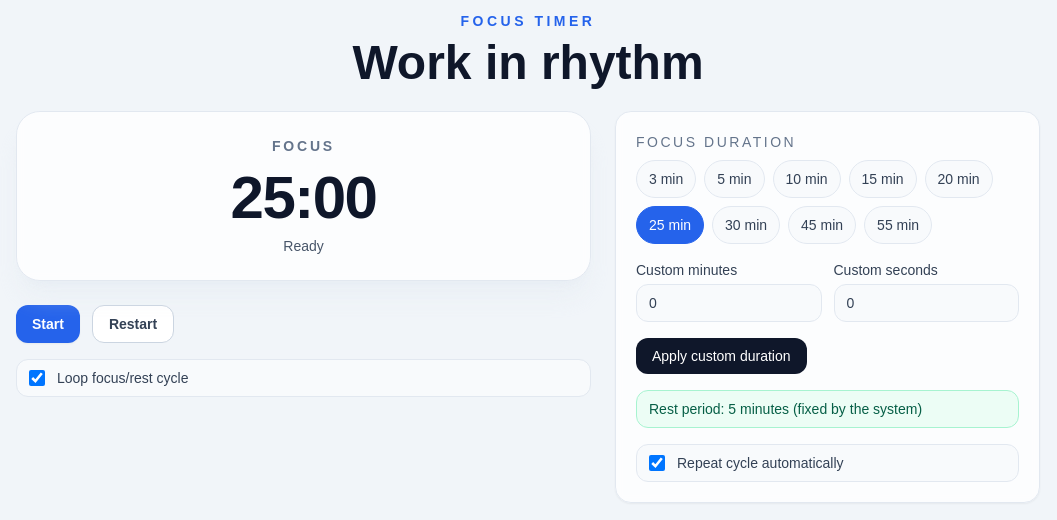
Test: timer flow › applies a custom focus duration immediately and uses it for the next run
This screenshot has width=1057, height=520.
Replace the text in the number field labelled "Custom minutes" with "10": coordinates (729, 303) [636,284,822,322]
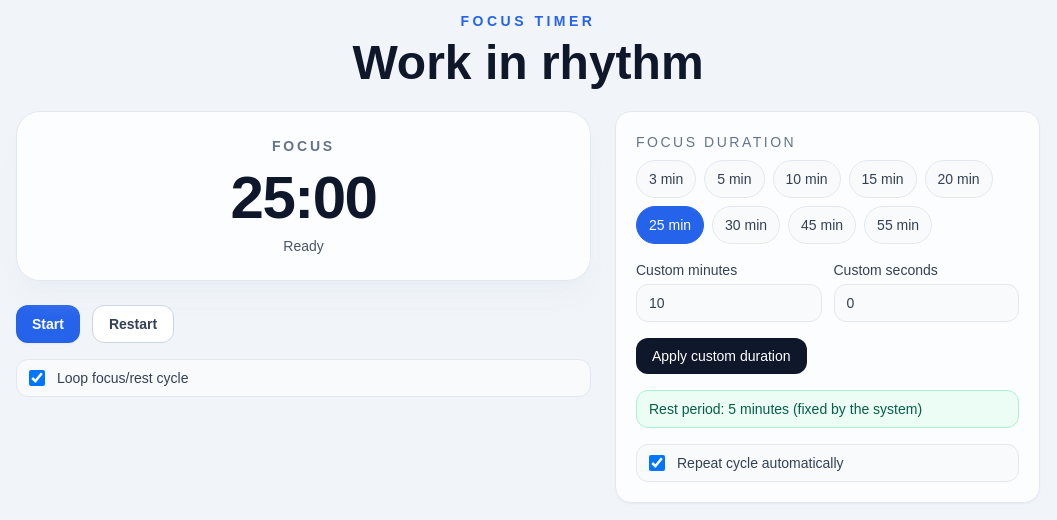
Replace the text in the number field labelled "Custom seconds" with "30": coordinates (926, 303) [834,284,1019,322]
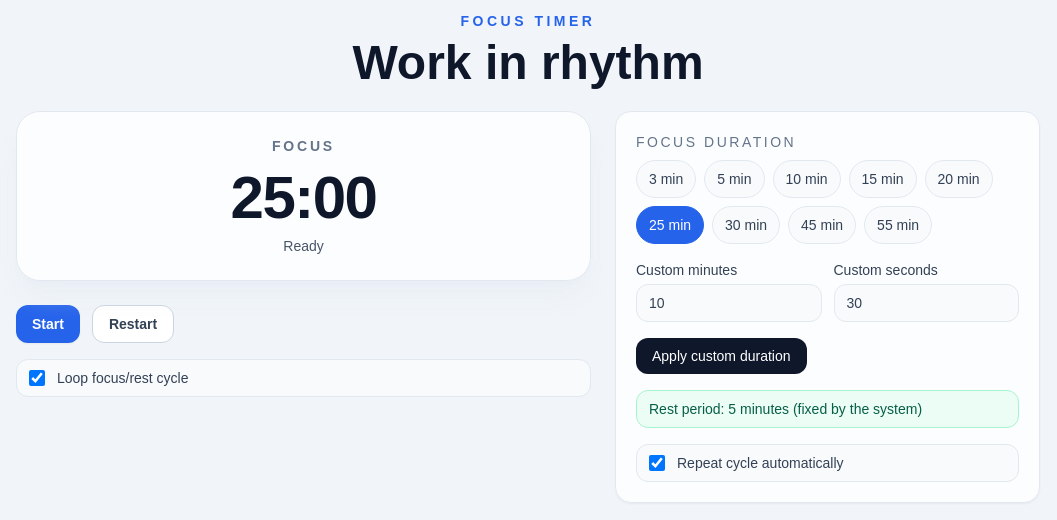
Click the button "Apply custom duration": coordinates (721, 356) [636,338,806,374]
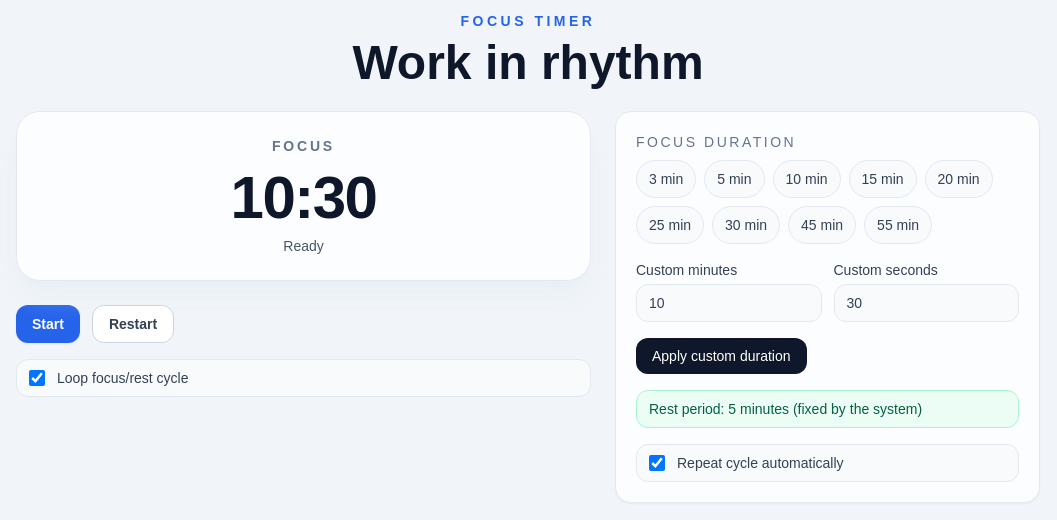
Now the text "10:30" is shown, box [230,164,376,231]
Click the button "Start": coordinates (48, 324) [16,305,80,343]
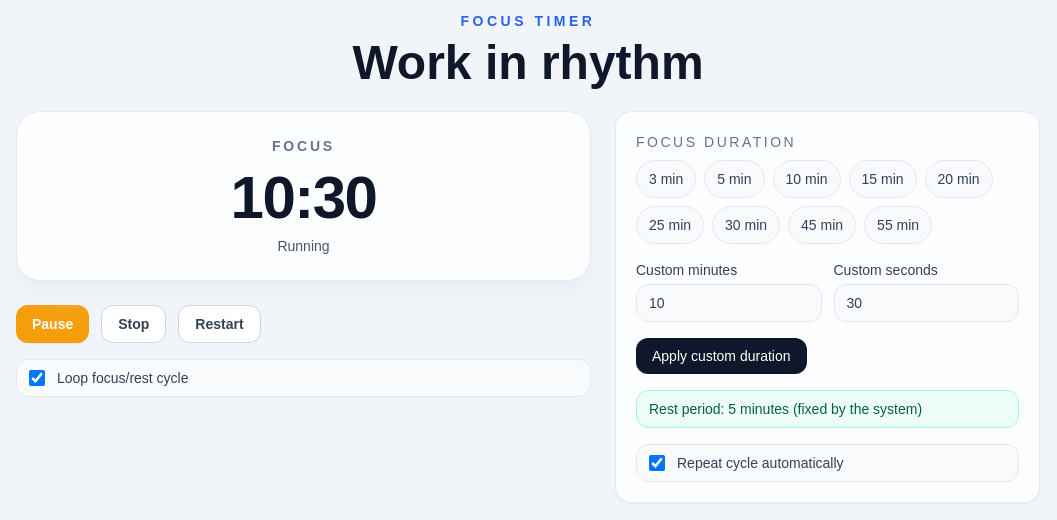
Now the text "10:30" is shown, box [230,164,376,231]
Now the text "Running" is shown, box [277,238,330,254]
